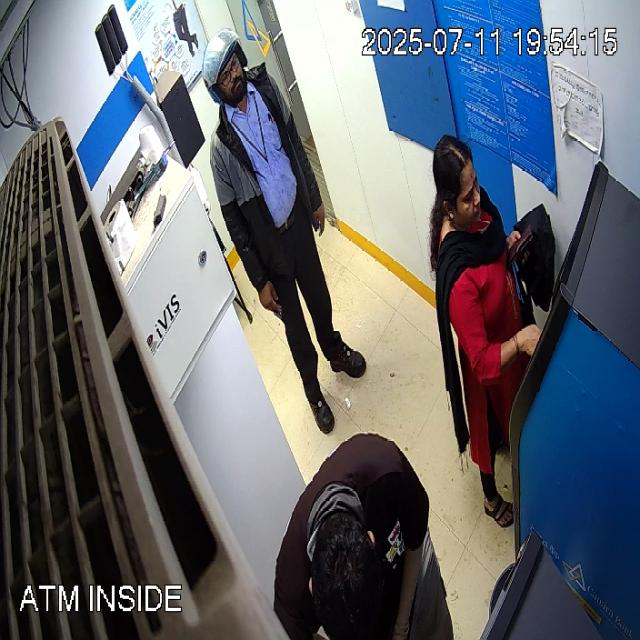helmet: (202, 27, 248, 106)
no_helmet: (310, 510, 381, 639), (432, 133, 482, 232)
